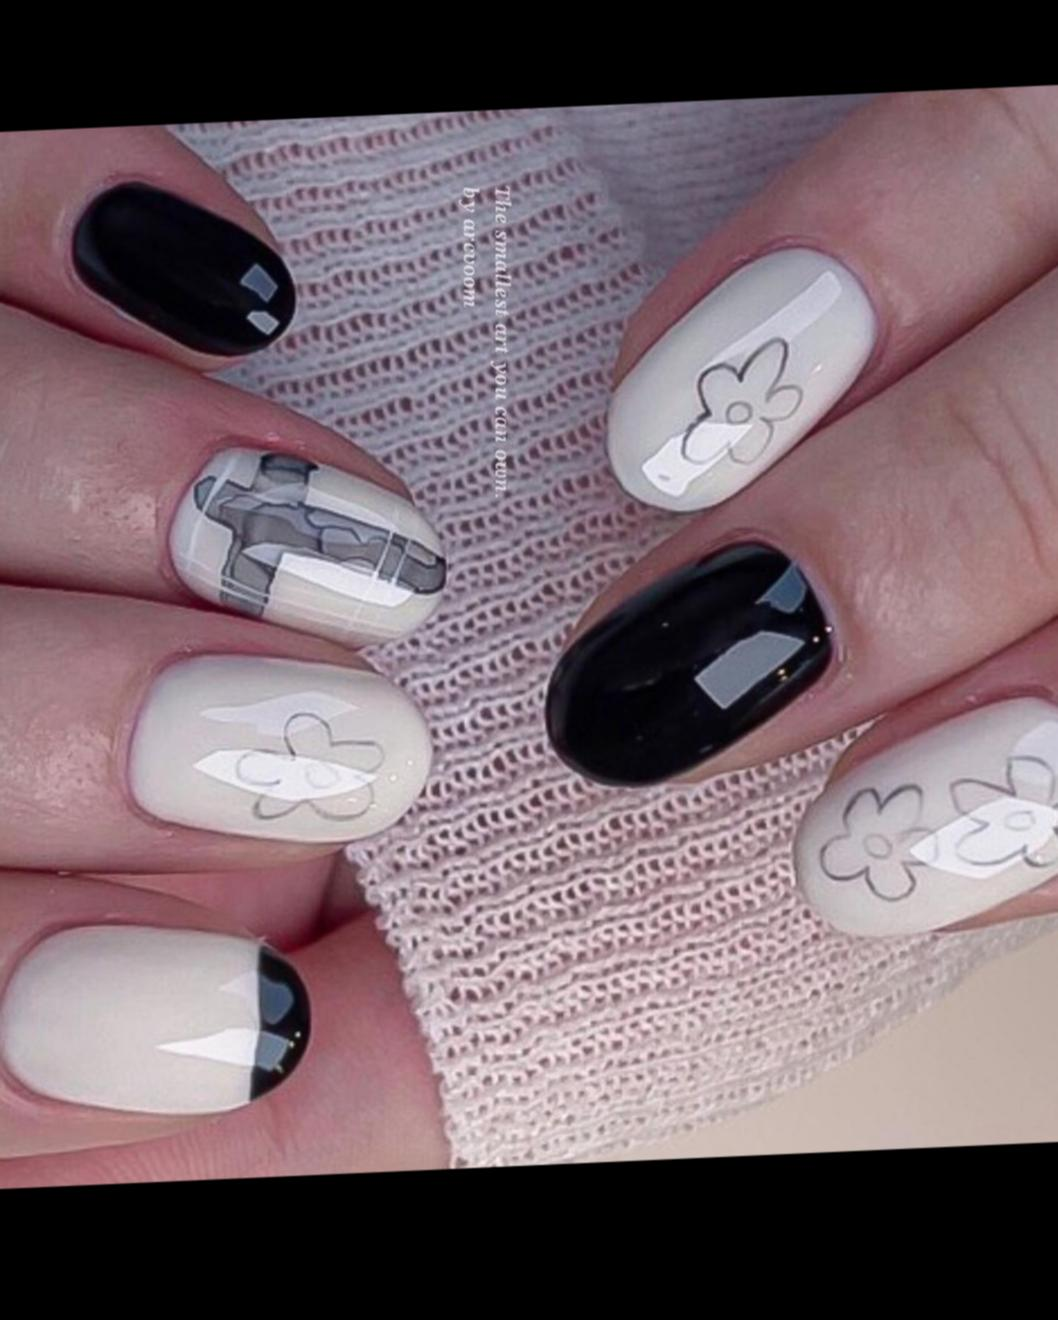nail: (606, 236, 884, 516), (545, 532, 842, 792), (0, 909, 315, 1124), (127, 639, 436, 854), (167, 431, 452, 654), (793, 696, 1058, 936), (69, 168, 300, 366)
